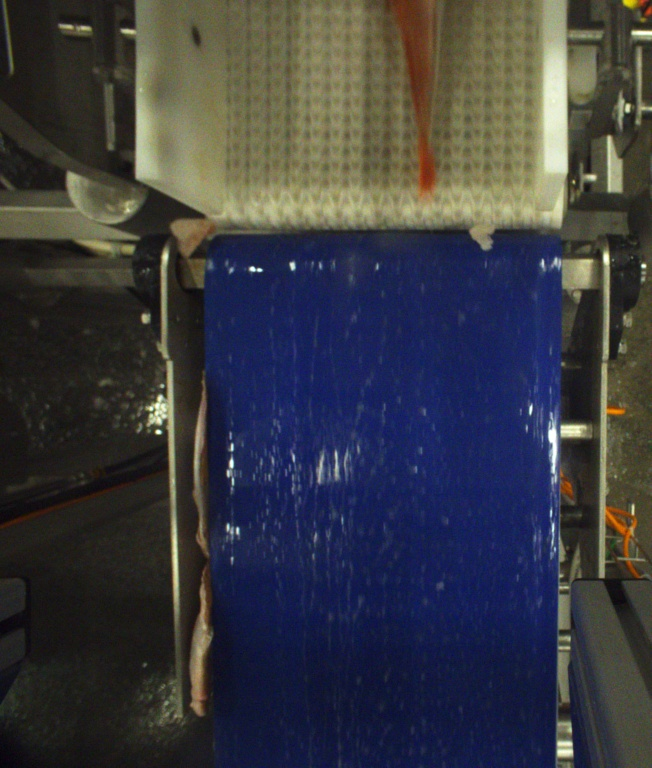GUU: (389, 0, 445, 190)
